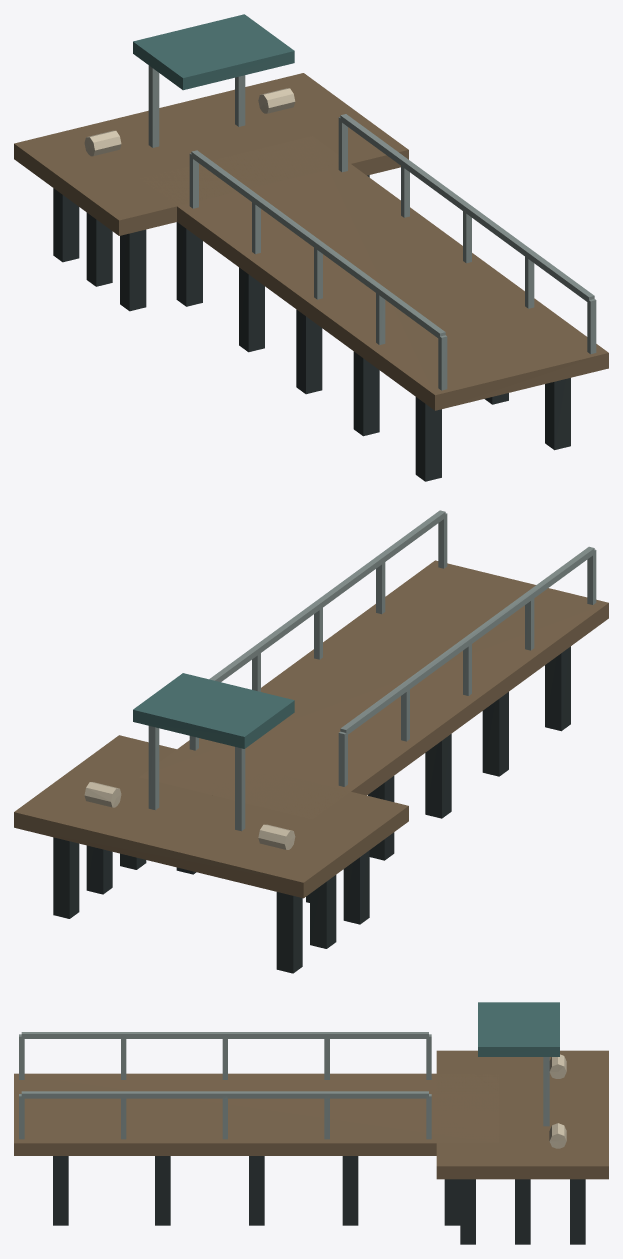
Rendered from fishing-pier.source.glb.
3 views of the same model, one above another, from view 1: azimuth 30°, elevation 25°; view 2: azimuth 150°, elevation 25°; view 3: azimuth 270°, elevation 25° (orthographic). The views are drawn at different scales.
Parts seen in each view (by area): view 1: coastal-pier-shore-approach-deck-mesh, coastal-pier-wide-end-deck-mesh, coastal-pier-small-service-canopy-mesh, coastal-pier-rail-top--0.9-mesh, coastal-pier-rail-top-0.9-mesh, coastal-pier-end-pile--1.35--2.7-mesh, coastal-pier-saltwater-pile--0.78-2.5-mesh, coastal-pier-saltwater-pile--0.78--2.5-mesh, coastal-pier-saltwater-pile--0.78-1.2-mesh, coastal-pier-saltwater-pile--0.78-0-mesh, coastal-pier-saltwater-pile--0.78--1.2-mesh, coastal-pier-saltwater-pile-0.78-2.5-mesh (+5 smaller); view 2: coastal-pier-shore-approach-deck-mesh, coastal-pier-wide-end-deck-mesh, coastal-pier-small-service-canopy-mesh, coastal-pier-rail-top--0.9-mesh, coastal-pier-rail-top-0.9-mesh, coastal-pier-end-pile--1.35--4.1-mesh, coastal-pier-end-pile-1.35--4.1-mesh, coastal-pier-saltwater-pile--0.78-0-mesh, coastal-pier-saltwater-pile--0.78-1.2-mesh, coastal-pier-saltwater-pile--0.78-2.5-mesh, coastal-pier-end-pile--1.35--3.4-mesh, coastal-pier-end-pile--1.35--2.7-mesh (+6 smaller); view 3: coastal-pier-shore-approach-deck-mesh, coastal-pier-wide-end-deck-mesh, coastal-pier-small-service-canopy-mesh, coastal-pier-rail-top-0.9-mesh, coastal-pier-rail-top--0.9-mesh, coastal-pier-saltwater-pile-0.78--1.2-mesh, coastal-pier-saltwater-pile-0.78-0-mesh, coastal-pier-saltwater-pile-0.78-1.2-mesh, coastal-pier-saltwater-pile-0.78-2.5-mesh, coastal-pier-end-pile-1.35--4.1-mesh, coastal-pier-end-pile-1.35--3.4-mesh, coastal-pier-end-pile-1.35--2.7-mesh (+4 smaller).
Boxes of the visible parts, x1,y1,x2,y2 form: coastal-pier-shore-approach-deck-mesh: [139, 136, 608, 410]; coastal-pier-wide-end-deck-mesh: [14, 73, 408, 235]; coastal-pier-small-service-canopy-mesh: [133, 14, 294, 90]; coastal-pier-rail-top--0.9-mesh: [191, 150, 445, 337]; coastal-pier-rail-top-0.9-mesh: [340, 114, 594, 302]; coastal-pier-end-pile--1.35--2.7-mesh: [120, 229, 146, 311]; coastal-pier-saltwater-pile--0.78-2.5-mesh: [415, 397, 441, 481]; coastal-pier-saltwater-pile--0.78--2.5-mesh: [176, 222, 202, 306]; coastal-pier-saltwater-pile--0.78-1.2-mesh: [353, 351, 379, 436]; coastal-pier-saltwater-pile--0.78-0-mesh: [296, 309, 322, 394]; coastal-pier-saltwater-pile--0.78--1.2-mesh: [239, 267, 264, 352]; coastal-pier-saltwater-pile-0.78-2.5-mesh: [545, 378, 570, 450]; coastal-pier-shore-approach-deck-mesh: [139, 560, 608, 819]; coastal-pier-wide-end-deck-mesh: [14, 735, 408, 898]; coastal-pier-small-service-canopy-mesh: [133, 673, 294, 748]; coastal-pier-rail-top--0.9-mesh: [340, 546, 594, 735]; coastal-pier-rail-top-0.9-mesh: [209, 510, 445, 681]; coastal-pier-end-pile--1.35--4.1-mesh: [276, 892, 302, 973]; coastal-pier-end-pile-1.35--4.1-mesh: [53, 837, 79, 918]; coastal-pier-saltwater-pile--0.78-0-mesh: [425, 734, 451, 818]; coastal-pier-saltwater-pile--0.78-1.2-mesh: [482, 692, 508, 776]; coastal-pier-saltwater-pile--0.78-2.5-mesh: [545, 646, 570, 731]; coastal-pier-end-pile--1.35--3.4-mesh: [310, 875, 336, 948]; coastal-pier-end-pile--1.35--2.7-mesh: [343, 850, 369, 924]; coastal-pier-shore-approach-deck-mesh: [14, 1073, 499, 1155]; coastal-pier-wide-end-deck-mesh: [436, 1050, 608, 1179]; coastal-pier-small-service-canopy-mesh: [478, 1002, 559, 1056]; coastal-pier-rail-top-0.9-mesh: [21, 1091, 428, 1098]; coastal-pier-rail-top--0.9-mesh: [21, 1032, 428, 1038]; coastal-pier-saltwater-pile-0.78--1.2-mesh: [342, 1156, 358, 1225]; coastal-pier-saltwater-pile-0.78-0-mesh: [249, 1156, 264, 1225]; coastal-pier-saltwater-pile-0.78-1.2-mesh: [155, 1156, 170, 1225]; coastal-pier-saltwater-pile-0.78-2.5-mesh: [53, 1156, 68, 1225]; coastal-pier-end-pile-1.35--4.1-mesh: [570, 1179, 585, 1244]; coastal-pier-end-pile-1.35--3.4-mesh: [515, 1179, 530, 1244]; coastal-pier-end-pile-1.35--2.7-mesh: [460, 1179, 475, 1244].
Bounding box in the file's own units: 3.5 × 2.42 × 7.6.
